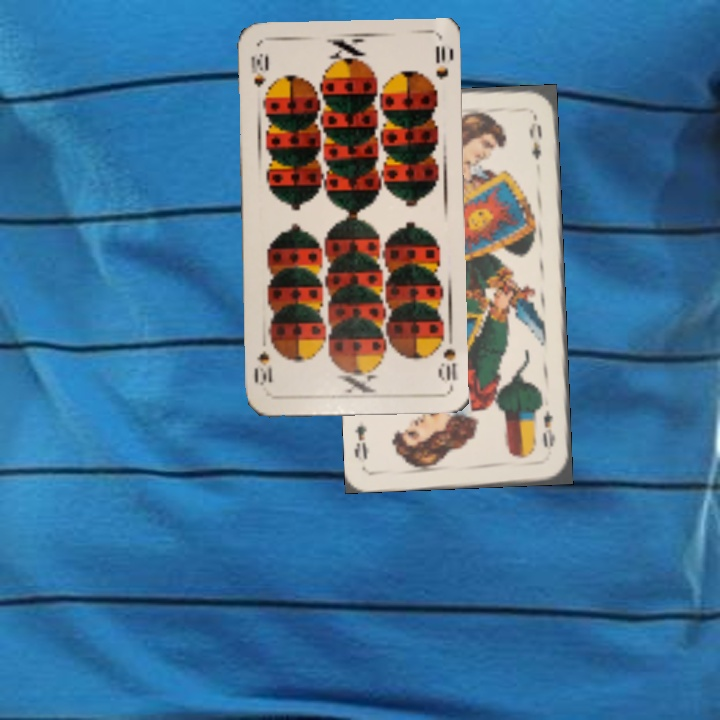EO: (538, 406, 558, 450)
S10: (434, 330, 460, 383), (247, 49, 269, 90)
